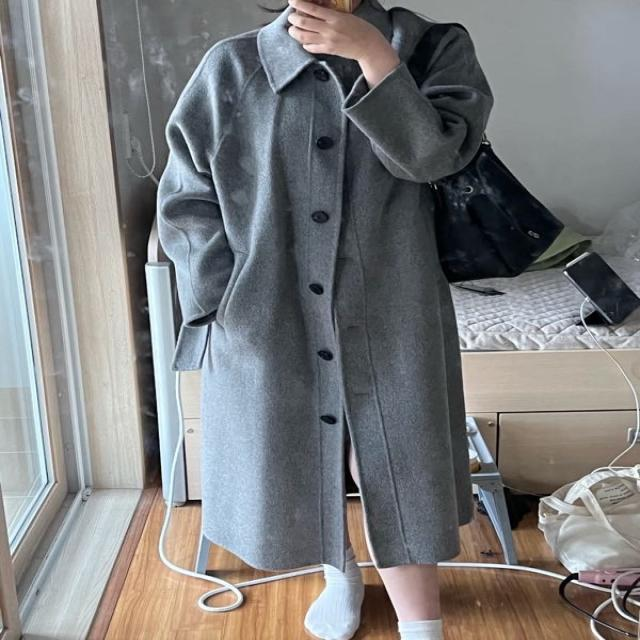slacks: (155, 0, 492, 571)
